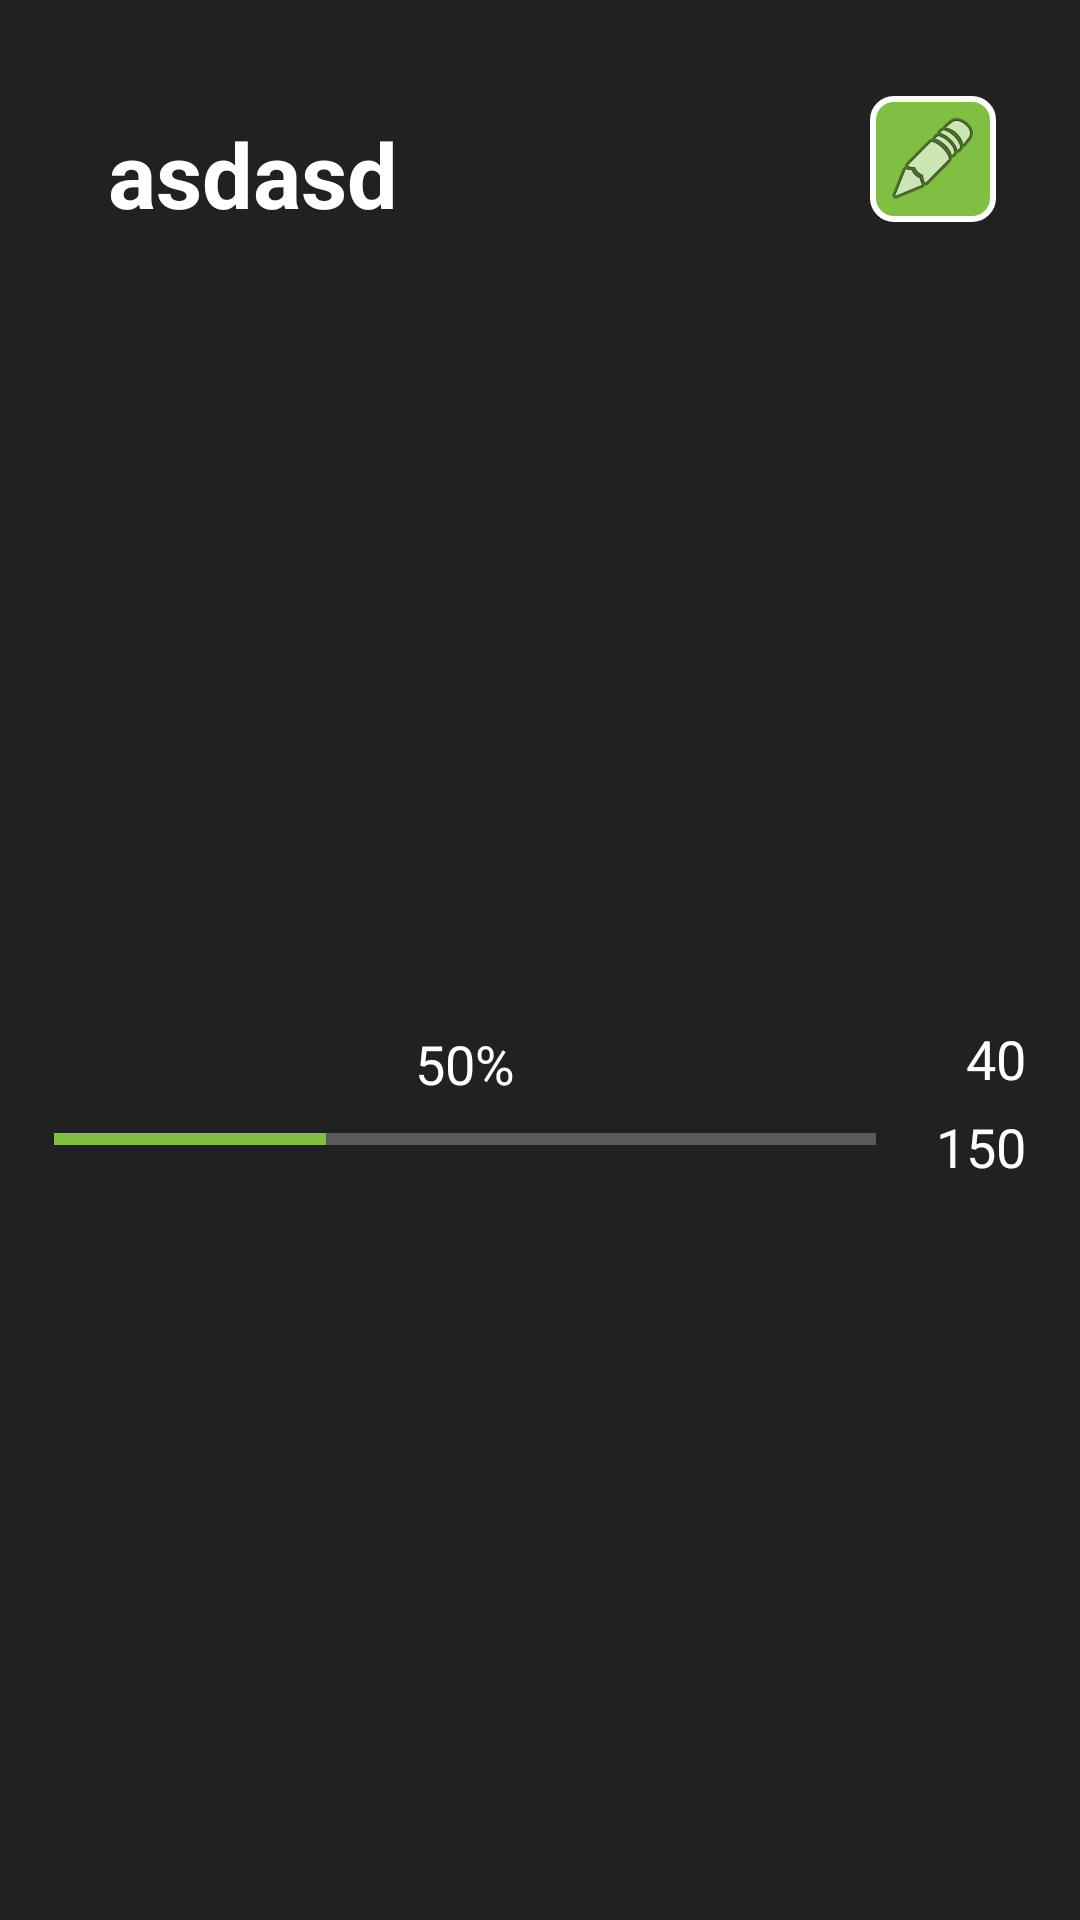

Icons on this 1080w x 1920h Android screen, each with its box as (x1, y1, x2, y2):
edit: (870, 96, 996, 222)
